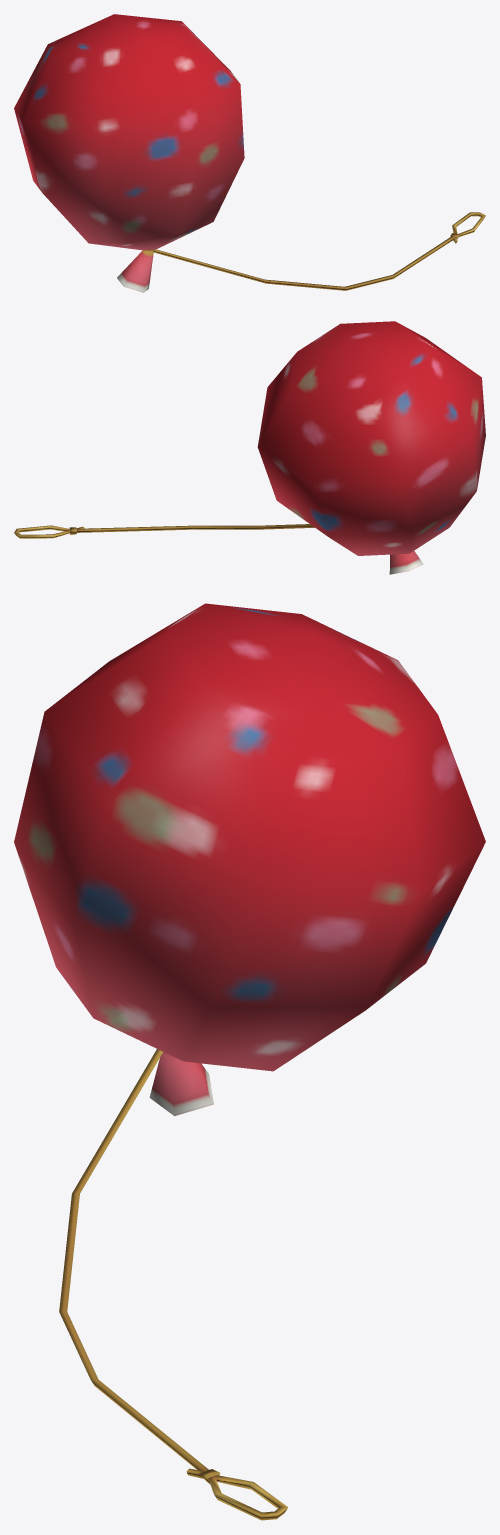
File: jsf_WaterBalloon_17_b.fbx
The picture shows the model from 3 angles, top to bottom: view 1: azimuth 30°, elevation 25°; view 2: azimuth 150°, elevation 25°; view 3: azimuth 270°, elevation 25°; orthographic projection. The views are drawn at different scales.
Visible parts, largest first — view 1: jsf_WaterBalloon_17_b; view 2: jsf_WaterBalloon_17_b; view 3: jsf_WaterBalloon_17_b.
Boxes of the visible parts, x1,y1,x2,y2 form: jsf_WaterBalloon_17_b: (14, 14, 485, 292); jsf_WaterBalloon_17_b: (14, 321, 485, 574); jsf_WaterBalloon_17_b: (14, 603, 485, 1520).
Size of the model in its own units: 24.35 by 14.34 by 11.11.
